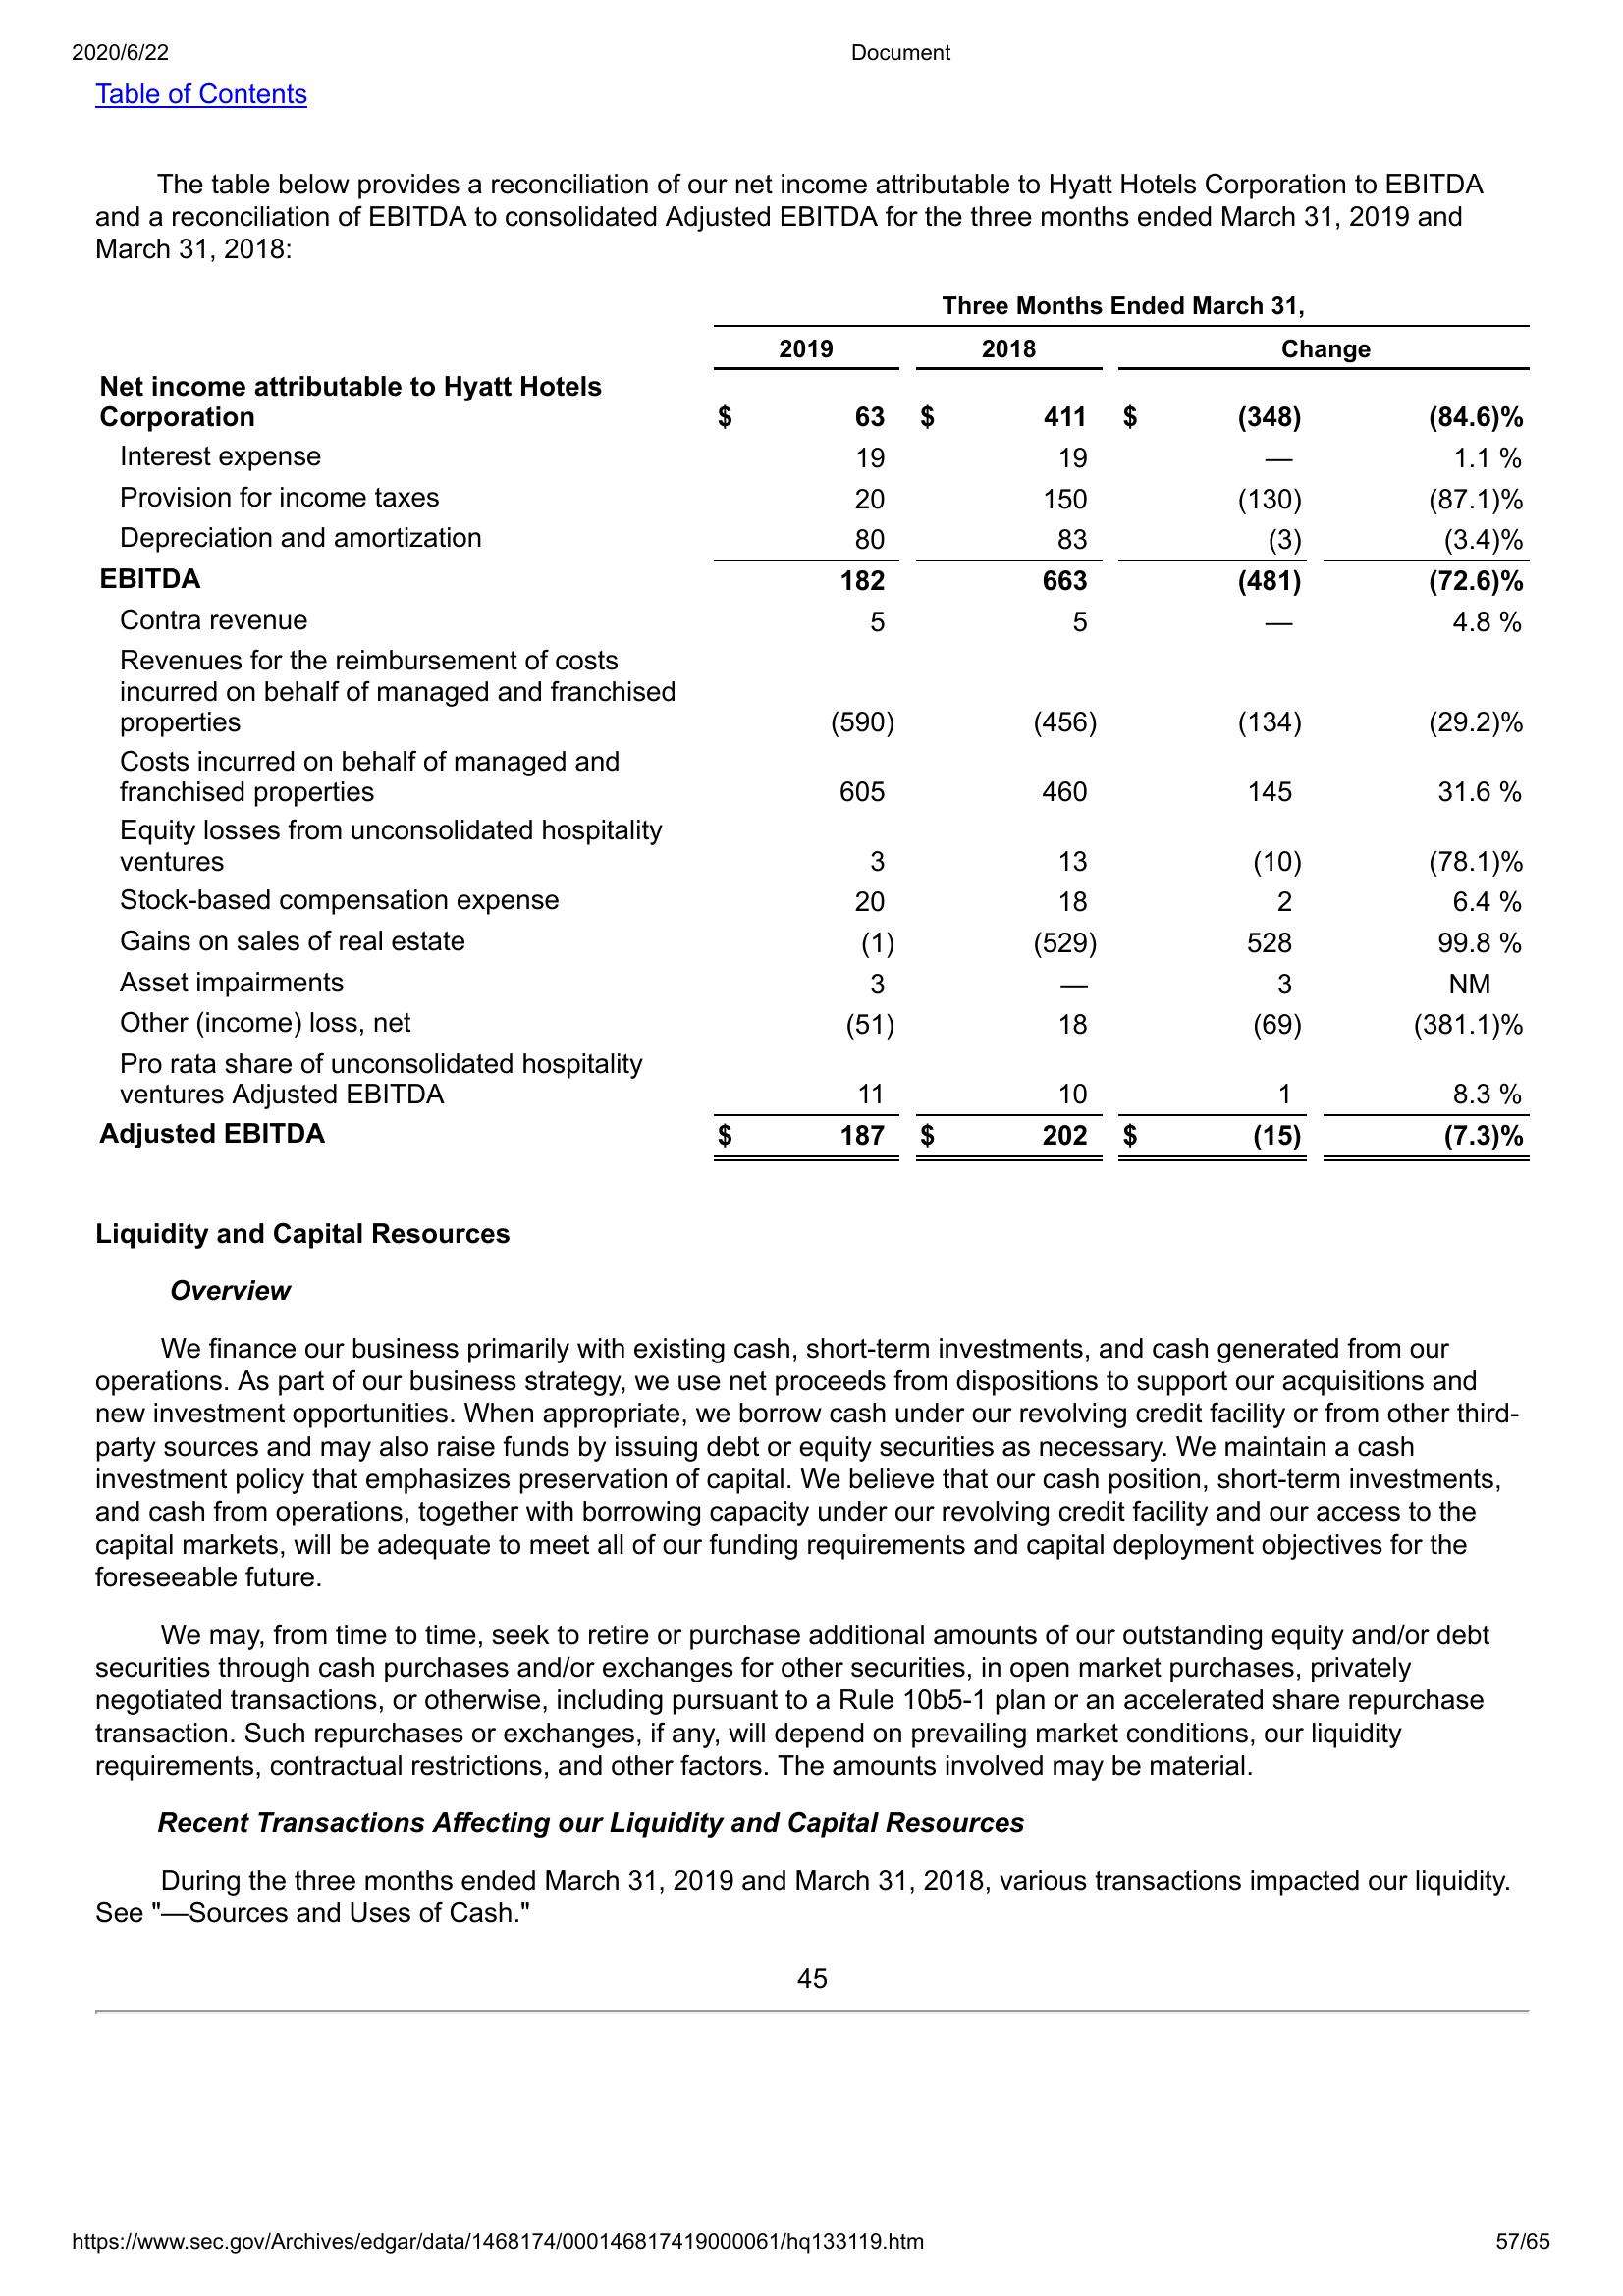table: (88, 276, 1546, 1171)
